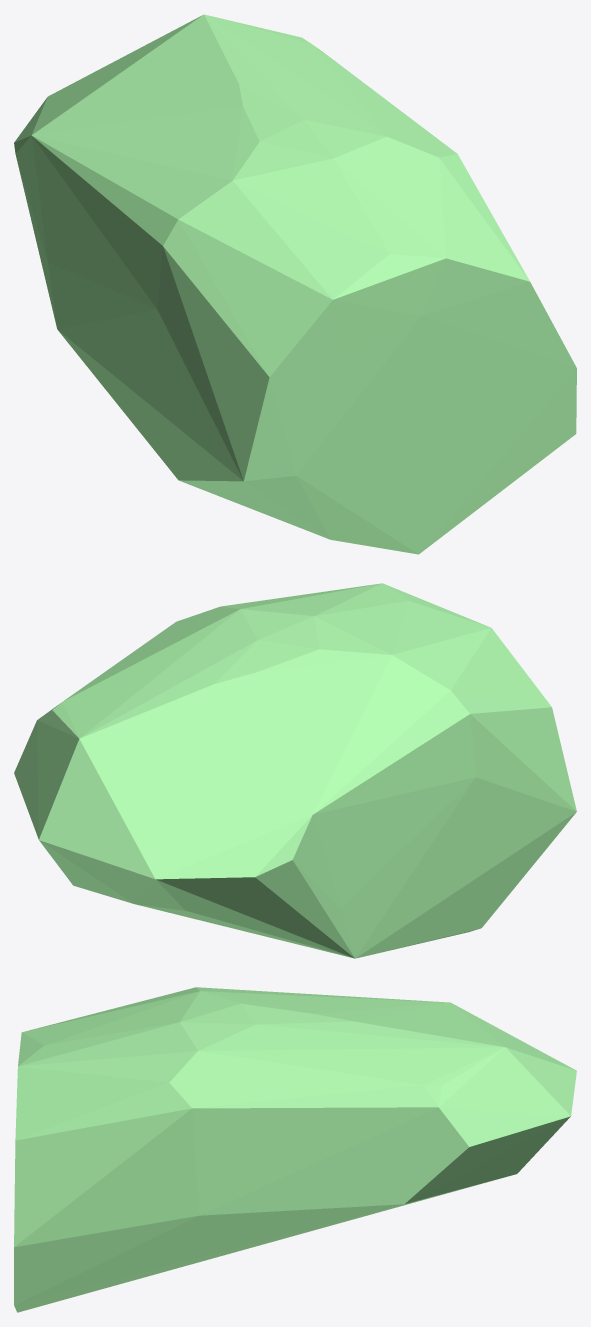
Rendered from linkhou_LR4_R560_link5_respondable_coll_8.dae.
3 views of the same model, one above another, from view 1: azimuth 30°, elevation 25°; view 2: azimuth 150°, elevation 25°; view 3: azimuth 270°, elevation 25° (orthographic). The views are drawn at different scales.
Visible parts, largest first — view 1: Node_00000209DB3AB9C0; view 2: Node_00000209DB3AB9C0; view 3: Node_00000209DB3AB9C0.
Boxes of the visible parts, bbox=[...] form: Node_00000209DB3AB9C0: bbox=[14, 14, 576, 554]; Node_00000209DB3AB9C0: bbox=[14, 583, 576, 958]; Node_00000209DB3AB9C0: bbox=[14, 987, 576, 1312].
Size of the model in its own units: 0.0953 by 0.0922 by 0.1585.
